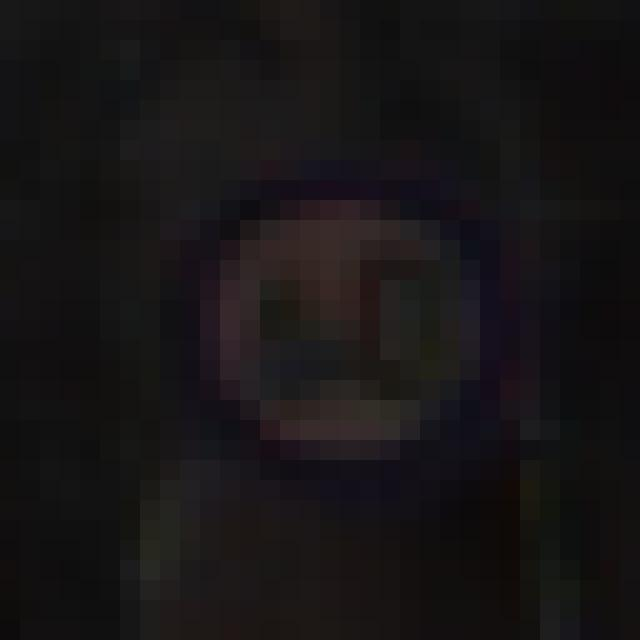SPEED-LIMIT-60: (168, 150, 524, 492)
